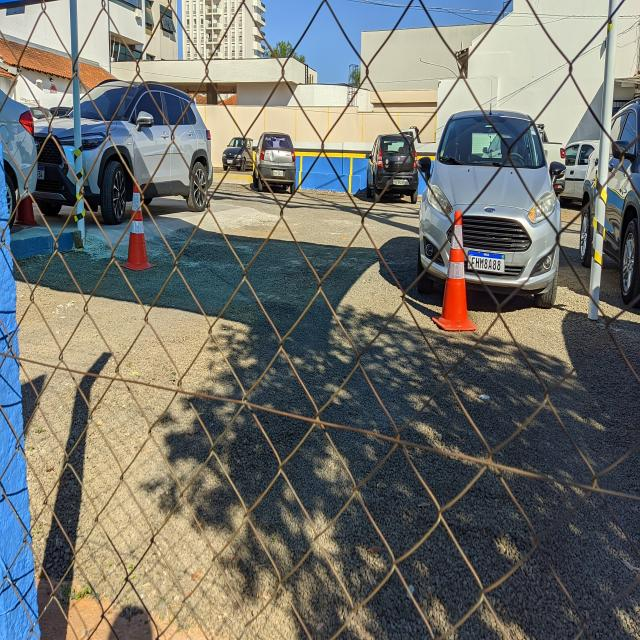cone: (430, 208, 478, 334), (116, 178, 158, 274), (11, 183, 41, 229)
